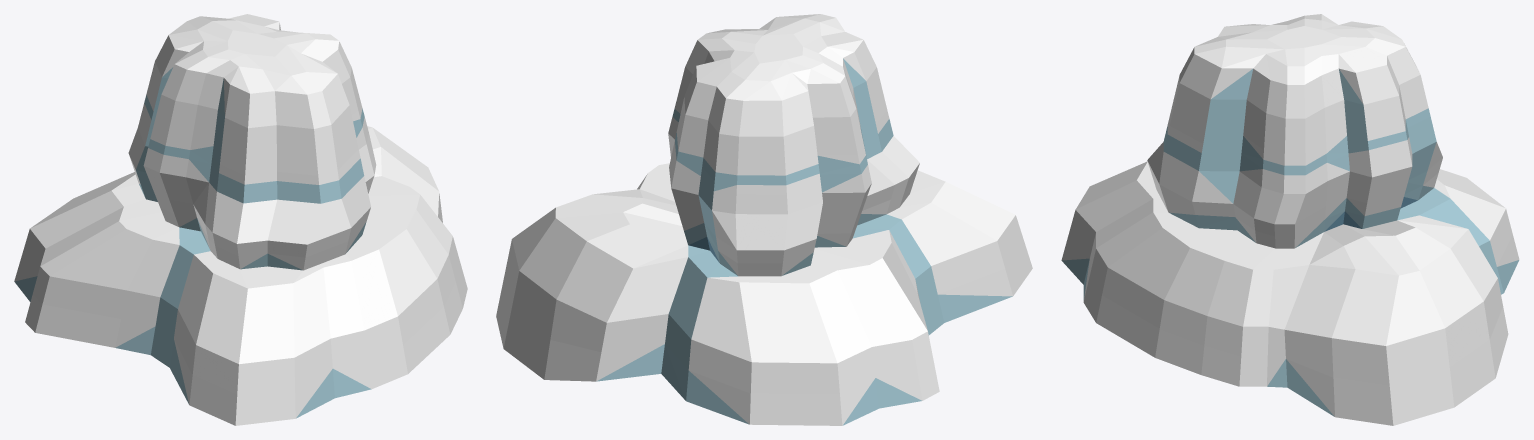
Rendered from terrainCliff2.fbx.
3 renders of one model, left to right at view 1: azimuth 30°, elevation 25°; view 2: azimuth 150°, elevation 25°; view 3: azimuth 270°, elevation 25°, orthographic. The views are drawn at different scales.
Visible parts, largest first — view 1: plane; view 2: plane; view 3: plane.
Boxes of the visible parts, <box> form: plane: <box>14,14,467,425</box>; plane: <box>496,14,1032,425</box>; plane: <box>1061,14,1519,425</box>.
Size of the model in its own units: 7398 by 4795 by 7151.
Materials: 1 (1 with a texture image).
